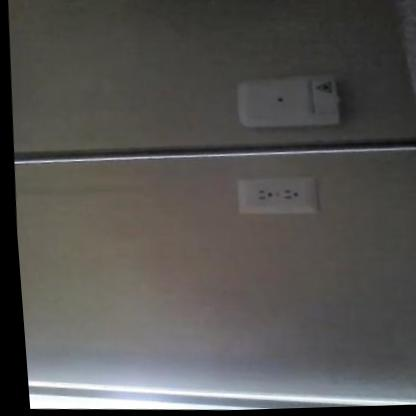OUTLET: (235, 174, 320, 216)
